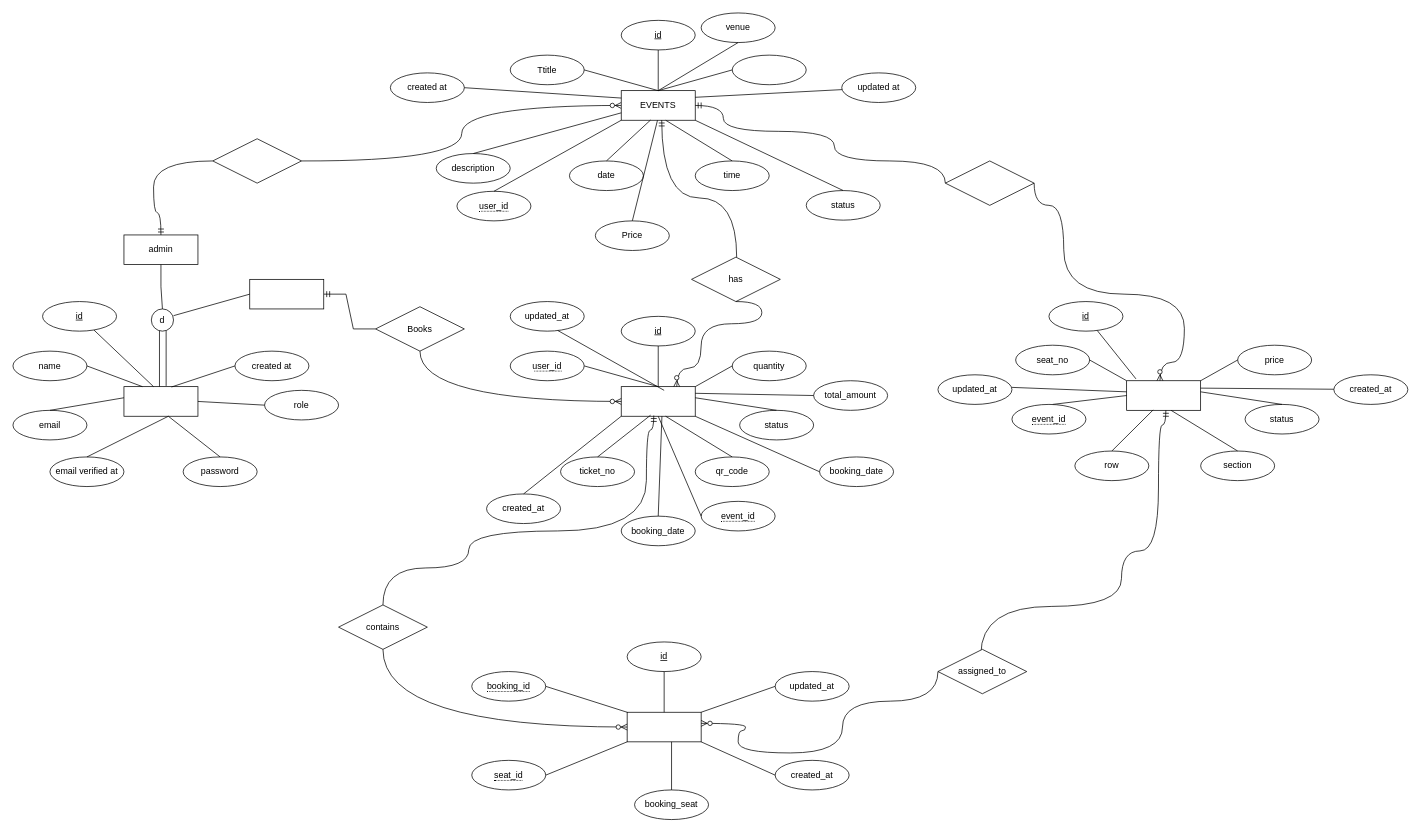
Image size: 1421x833. Some labels were removed from this diagram. The shapes that lost their labels are listed below. From the top down, each one's centre as x and y in pixels, then its label:
At (x=768, y=69): "capacity".
At (x=257, y=160): "Creates".
At (x=989, y=182): "includes".
At (x=286, y=294): "user".
At (x=160, y=401): "USERS".
At (x=657, y=401): "BOOKINGS".
At (x=1163, y=395): "SEATS".
At (x=663, y=727): "BOOKING SEATS".
